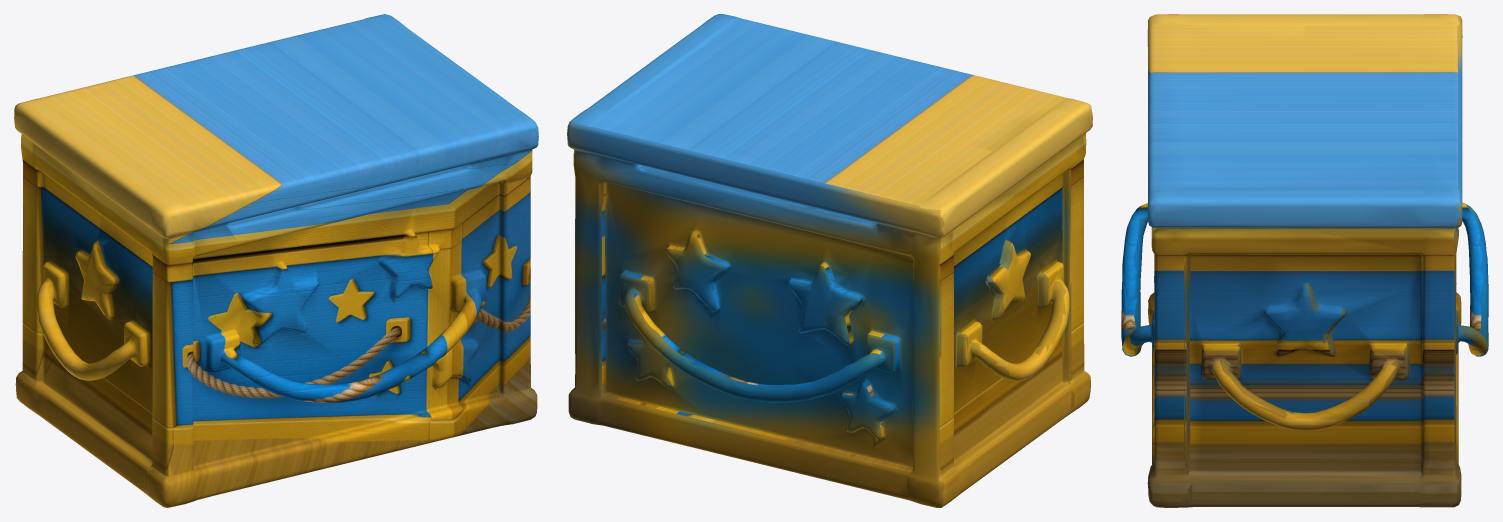
Rendered from toy_box.glb.
The picture shows the model from 3 angles, left to right: view 1: azimuth 30°, elevation 25°; view 2: azimuth 150°, elevation 25°; view 3: azimuth 270°, elevation 25°; orthographic projection. The views are drawn at different scales.
Parts seen in each view (by area): view 1: toy_box; view 2: toy_box; view 3: toy_box.
Boxes of the visible parts, bbox=[...] form: toy_box: bbox=[14, 14, 538, 507]; toy_box: bbox=[567, 14, 1092, 507]; toy_box: bbox=[1121, 14, 1488, 507].
Size of the model in its own units: 22 by 15.25 by 16.35.
Materials: 1 (1 with a texture image).
